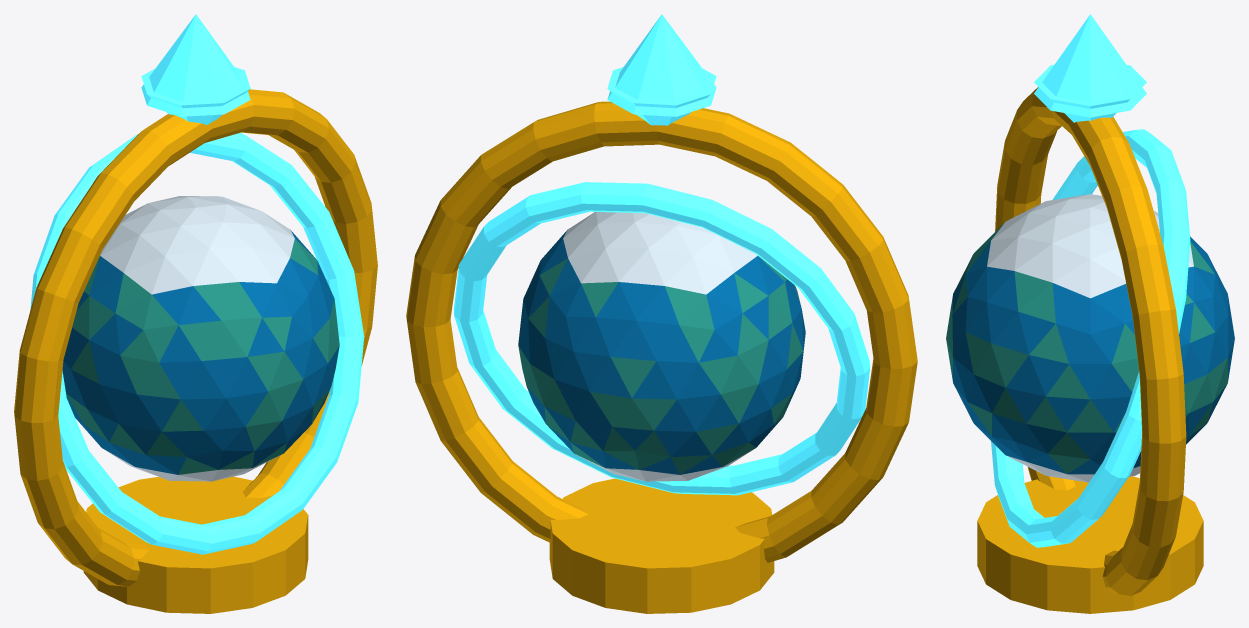
File: fact_holo_globe.glb
The picture shows the model from 3 angles, left to right: view 1: azimuth 30°, elevation 25°; view 2: azimuth 150°, elevation 25°; view 3: azimuth 270°, elevation 25°; orthographic projection.
Parts seen in each view (by area): view 1: fact_holo_globe; view 2: fact_holo_globe; view 3: fact_holo_globe.
Boxes of the visible parts, x1,y1,x2,y2 form: fact_holo_globe: (14,14,377,613); fact_holo_globe: (406,14,917,613); fact_holo_globe: (946,14,1234,613).
Bounding box in the file's own units: 0.7932 × 0.986 × 0.46.
